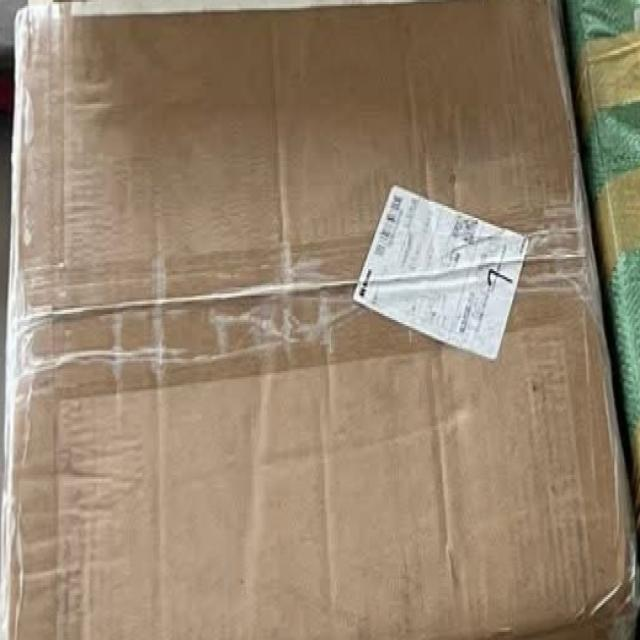carton_box: (1, 4, 640, 640)
export_mark_label: (353, 179, 532, 358)
